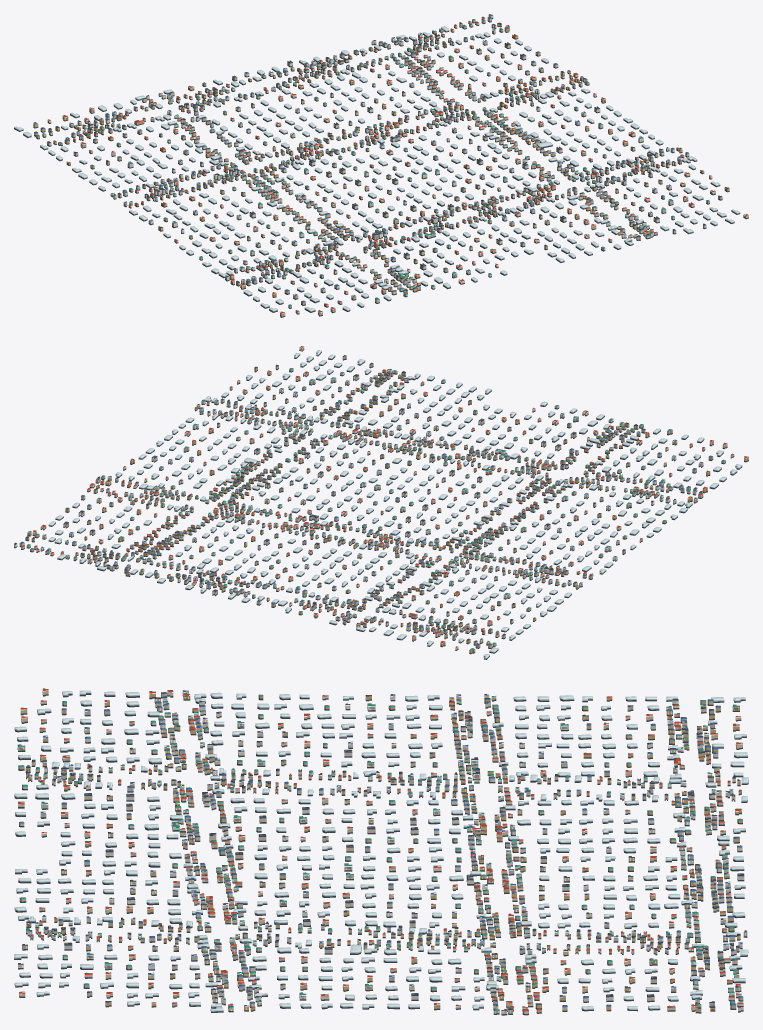
Rendered from osm_buildings_T_E04_N01.glb.
3 renders of one model, top to bottom at view 1: azimuth 30°, elevation 25°; view 2: azimuth 150°, elevation 25°; view 3: azimuth 270°, elevation 25°, orthographic. The views are drawn at different scales.
Visible parts, largest first — view 1: OSM_T_E04_N01_foundation, OSM_T_E04_N01_greenhouse_blend, OSM_T_E04_N01_wall_cream_stucco, OSM_T_E04_N01_wall_french_ochre, OSM_T_E04_N01_wall_warm_white, OSM_T_E04_N01_wall_pastel_sand, OSM_T_E04_N01_roof_mansard_slate, OSM_T_E04_N01_roof_terracotta, OSM_T_E04_N01_roof_mint_metal, OSM_T_E04_N01_roof_alpine_blue; view 2: OSM_T_E04_N01_foundation, OSM_T_E04_N01_greenhouse_blend, OSM_T_E04_N01_wall_cream_stucco, OSM_T_E04_N01_wall_french_ochre, OSM_T_E04_N01_wall_warm_white, OSM_T_E04_N01_wall_pastel_sand, OSM_T_E04_N01_roof_mansard_slate, OSM_T_E04_N01_roof_terracotta, OSM_T_E04_N01_roof_alpine_blue, OSM_T_E04_N01_roof_mint_metal; view 3: OSM_T_E04_N01_foundation, OSM_T_E04_N01_greenhouse_blend, OSM_T_E04_N01_wall_cream_stucco, OSM_T_E04_N01_wall_french_ochre, OSM_T_E04_N01_wall_warm_white, OSM_T_E04_N01_wall_pastel_sand, OSM_T_E04_N01_roof_mansard_slate, OSM_T_E04_N01_roof_terracotta, OSM_T_E04_N01_roof_mint_metal, OSM_T_E04_N01_roof_alpine_blue, OSM_T_E04_N01_roof_mansard_deck.
Boxes of the visible parts, x1,y1,x2,y2 form: OSM_T_E04_N01_foundation: (14, 18, 748, 317); OSM_T_E04_N01_greenhouse_blend: (14, 26, 740, 311); OSM_T_E04_N01_wall_cream_stucco: (34, 23, 748, 316); OSM_T_E04_N01_wall_french_ochre: (33, 24, 729, 304); OSM_T_E04_N01_wall_warm_white: (47, 14, 706, 313); OSM_T_E04_N01_wall_pastel_sand: (48, 18, 722, 307); OSM_T_E04_N01_roof_mansard_slate: (47, 14, 729, 291); OSM_T_E04_N01_roof_terracotta: (48, 16, 748, 313); OSM_T_E04_N01_roof_mint_metal: (33, 19, 709, 305); OSM_T_E04_N01_roof_alpine_blue: (34, 16, 688, 302); OSM_T_E04_N01_foundation: (14, 349, 748, 659); OSM_T_E04_N01_greenhouse_blend: (48, 350, 742, 658); OSM_T_E04_N01_wall_cream_stucco: (32, 347, 748, 649); OSM_T_E04_N01_wall_french_ochre: (25, 367, 713, 653); OSM_T_E04_N01_wall_warm_white: (14, 356, 734, 638); OSM_T_E04_N01_wall_pastel_sand: (19, 363, 725, 644); OSM_T_E04_N01_roof_mansard_slate: (14, 355, 702, 642); OSM_T_E04_N01_roof_terracotta: (21, 346, 748, 647); OSM_T_E04_N01_roof_alpine_blue: (20, 369, 712, 645); OSM_T_E04_N01_roof_mint_metal: (27, 368, 725, 650); OSM_T_E04_N01_foundation: (14, 693, 748, 1015); OSM_T_E04_N01_greenhouse_blend: (14, 690, 748, 1011); OSM_T_E04_N01_wall_cream_stucco: (17, 690, 742, 1012); OSM_T_E04_N01_wall_french_ochre: (25, 693, 742, 1012); OSM_T_E04_N01_wall_warm_white: (18, 695, 744, 1014); OSM_T_E04_N01_wall_pastel_sand: (18, 693, 747, 1013); OSM_T_E04_N01_roof_mansard_slate: (18, 692, 747, 1010); OSM_T_E04_N01_roof_terracotta: (18, 688, 743, 1011); OSM_T_E04_N01_roof_mint_metal: (18, 694, 743, 1011); OSM_T_E04_N01_roof_alpine_blue: (27, 690, 742, 1008); OSM_T_E04_N01_roof_mansard_deck: (26, 727, 743, 1006).
Size of the model in its own units: 1904 by 52.38 by 1897.
